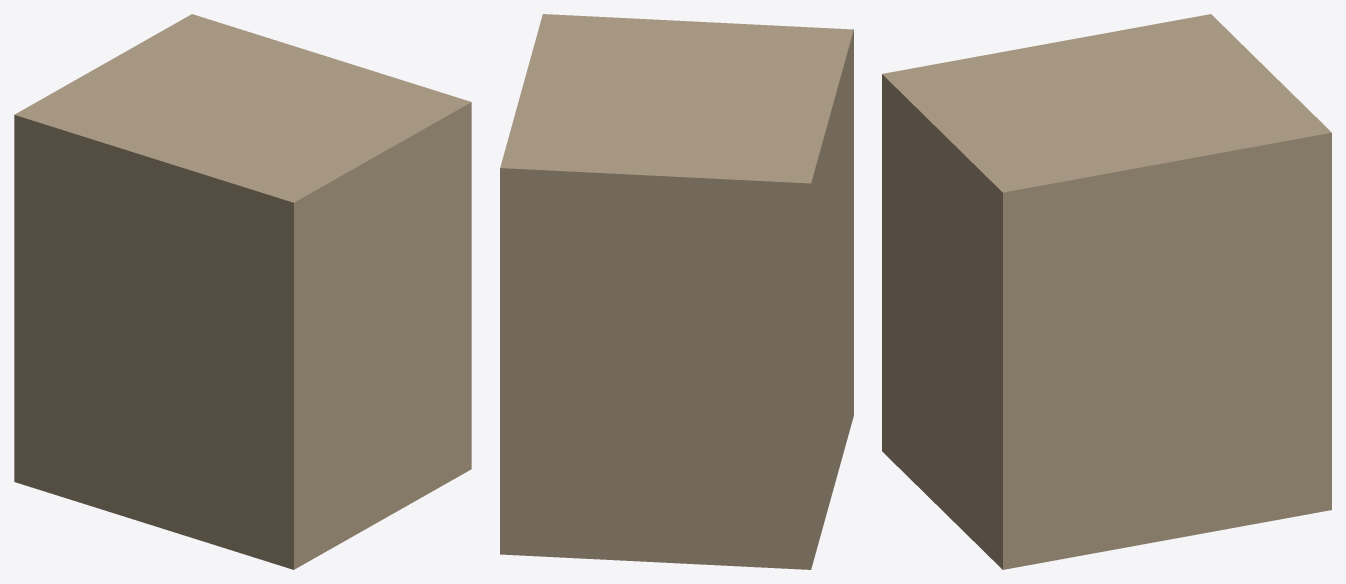
Rendered from bld_163484370.dae.
The picture shows the model from 3 angles, left to right: view 1: azimuth 30°, elevation 25°; view 2: azimuth 150°, elevation 25°; view 3: azimuth 270°, elevation 25°; orthographic projection. The views are drawn at different scales.
Parts seen in each view (by area): view 1: bld_163484370; view 2: bld_163484370; view 3: bld_163484370.
Part boxes in pixels (left/top/right/bottom): bld_163484370: left=14, top=14, right=471, bottom=569; bld_163484370: left=500, top=14, right=853, bottom=569; bld_163484370: left=882, top=14, right=1331, bottom=569.
Size of the model in its own units: 8.12 by 8.65 by 8.
